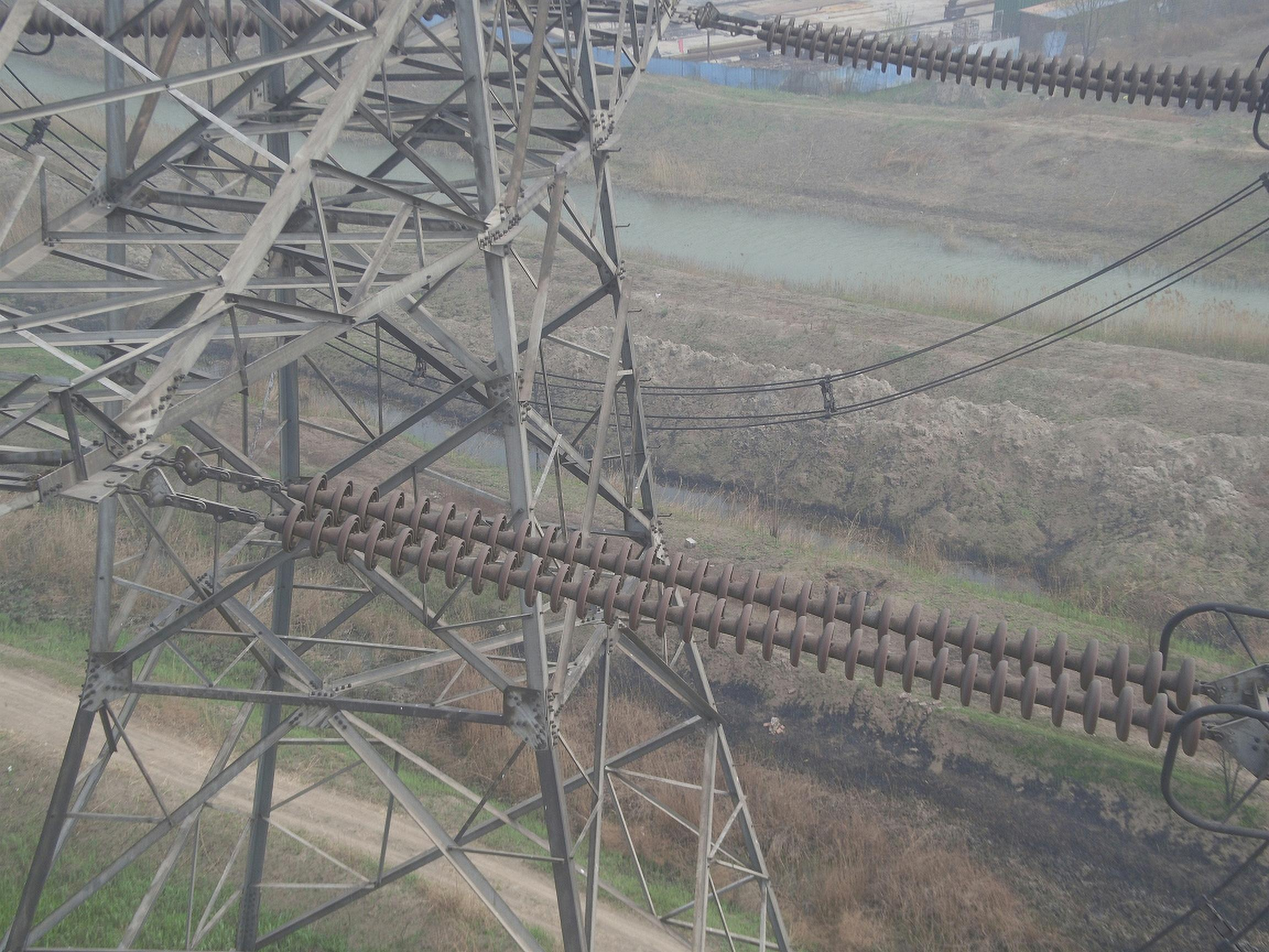insulator: (275, 466, 1206, 760), (762, 12, 1269, 115), (1, 1, 398, 43)
